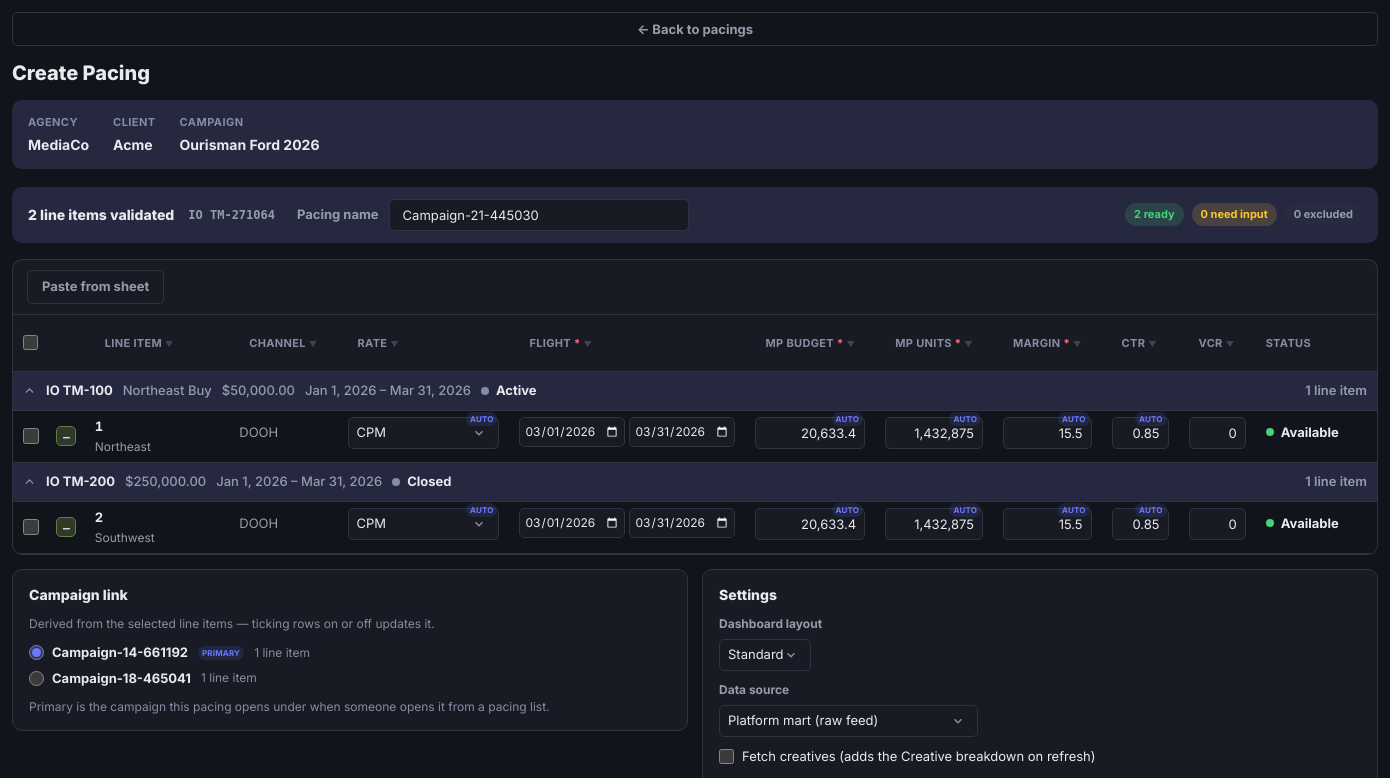
Test: CreatePacingPanel › groups line items under their parent insertion order, showing the order's own fields, and expands/collapses (US-122)
The image size is (1390, 778).
Expected: the text "IO TM-100" is shown, [46, 381, 113, 400]
Expected: the text "IO TM-200" is shown, [46, 472, 115, 492]
// collapsing the first group
Click the button "IO TM-100" at (79, 390), box [13, 372, 1377, 410]
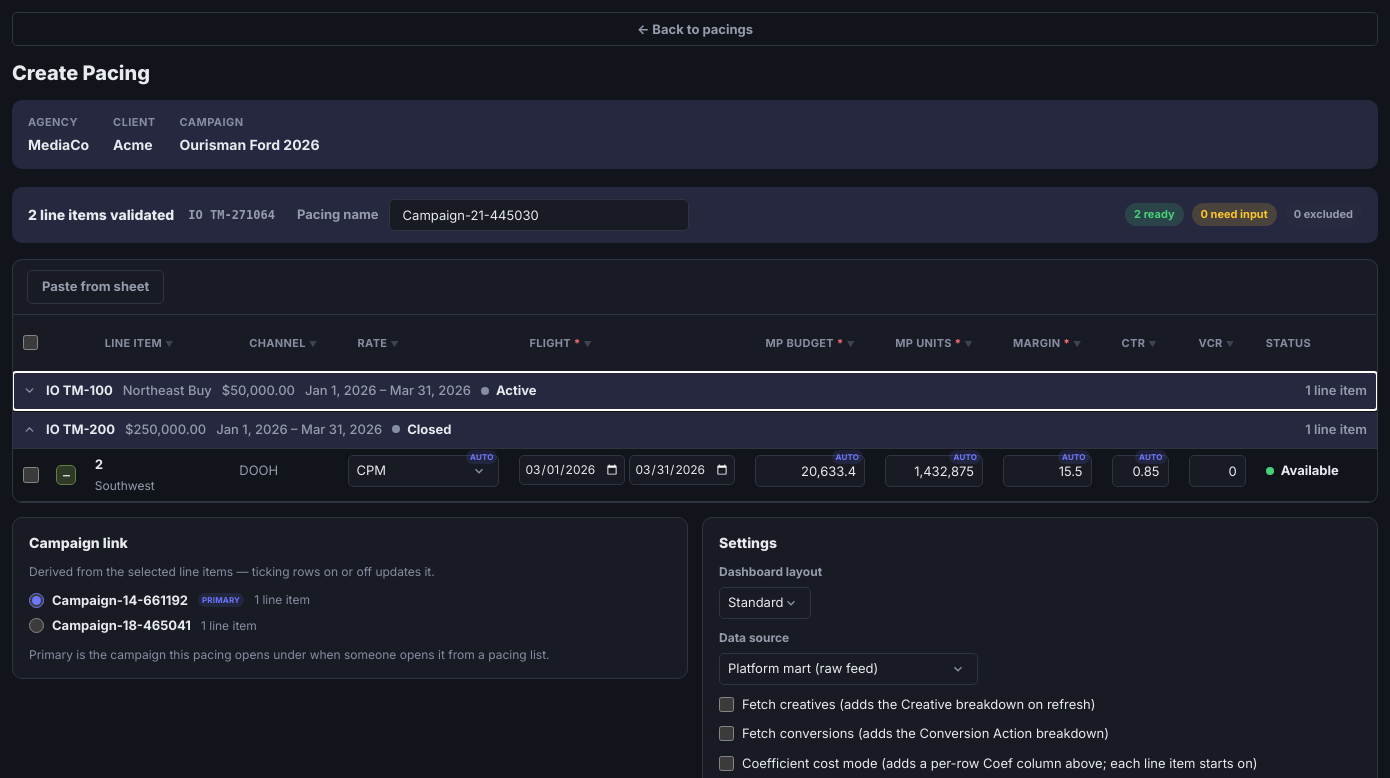
Expected: the text "Southwest" is shown, [95, 478, 155, 492]
// expanding it again
Click the button "IO TM-100" at (79, 390), box [13, 372, 1377, 410]
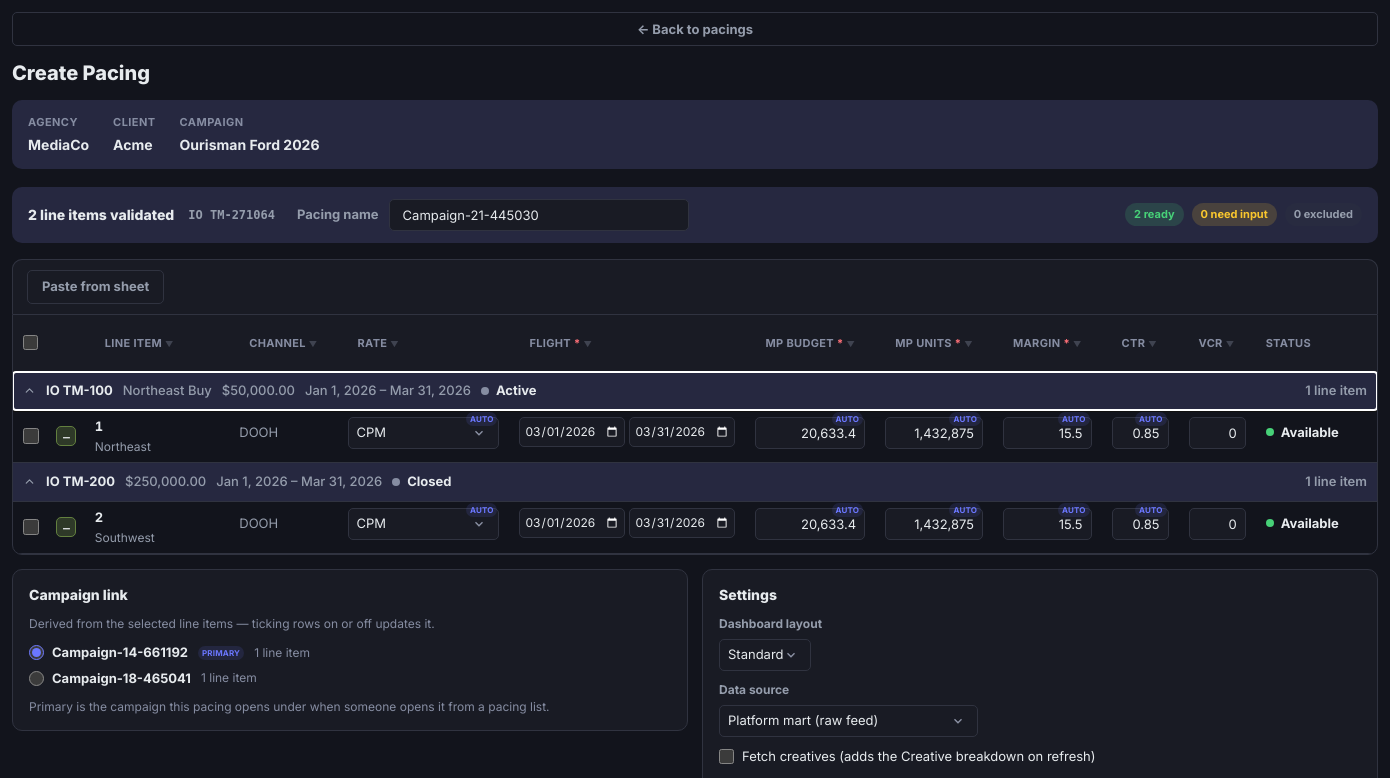
Result: the text "Northeast" is shown at [95, 439, 151, 454]
